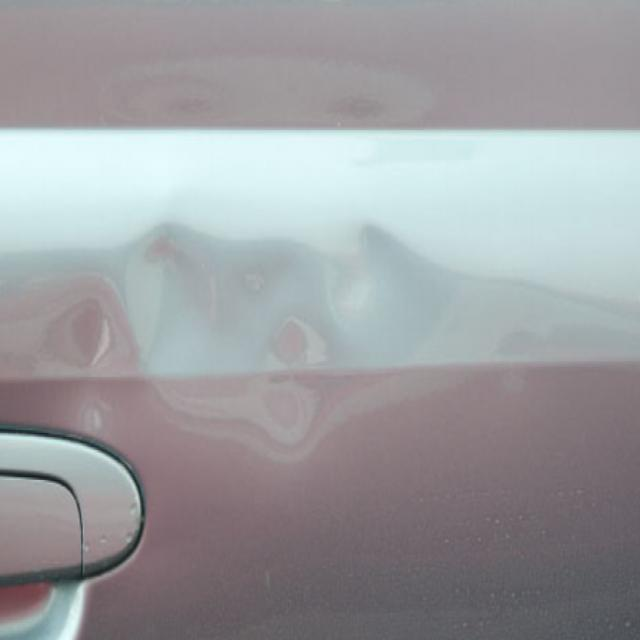dents: (116, 206, 352, 464), (35, 263, 132, 427)
